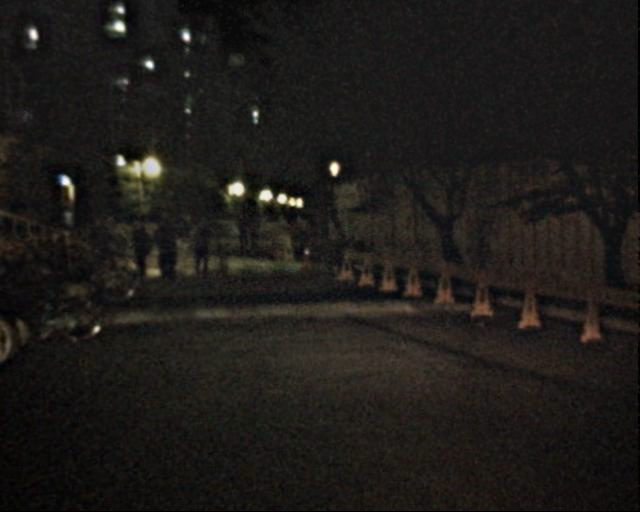person: (150, 207, 182, 284), (189, 216, 217, 284), (324, 216, 350, 280), (98, 213, 124, 276), (129, 215, 154, 276), (178, 211, 197, 257), (234, 215, 249, 252), (246, 216, 261, 252)
